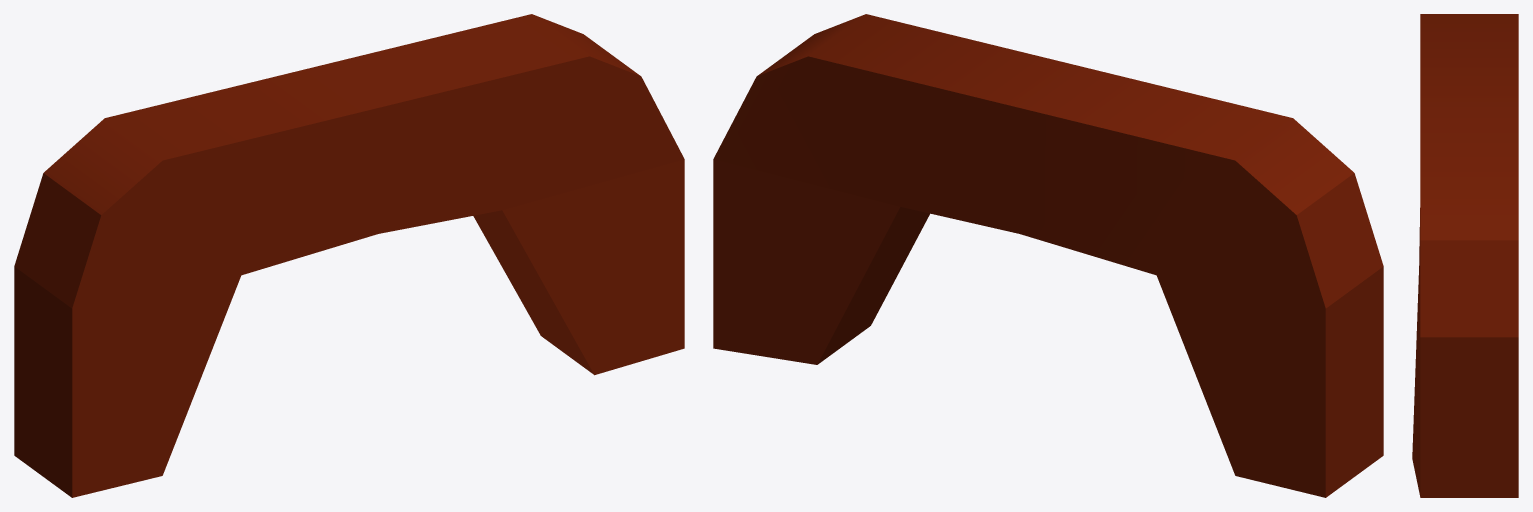
The model's file is DoorHandle.FBX.
The picture shows the model from 3 angles, left to right: view 1: azimuth 30°, elevation 25°; view 2: azimuth 150°, elevation 25°; view 3: azimuth 270°, elevation 25°; orthographic projection. The views are drawn at different scales.
Parts seen in each view (by area): view 1: Box001; view 2: Box001; view 3: Box001.
Part boxes in pixels (left/top/right/bottom): Box001: left=14, top=14, right=684, bottom=497; Box001: left=713, top=14, right=1383, bottom=497; Box001: left=1412, top=14, right=1518, bottom=497.
Bounding box in the file's own units: 58.4 × 10.35 × 28.73.
